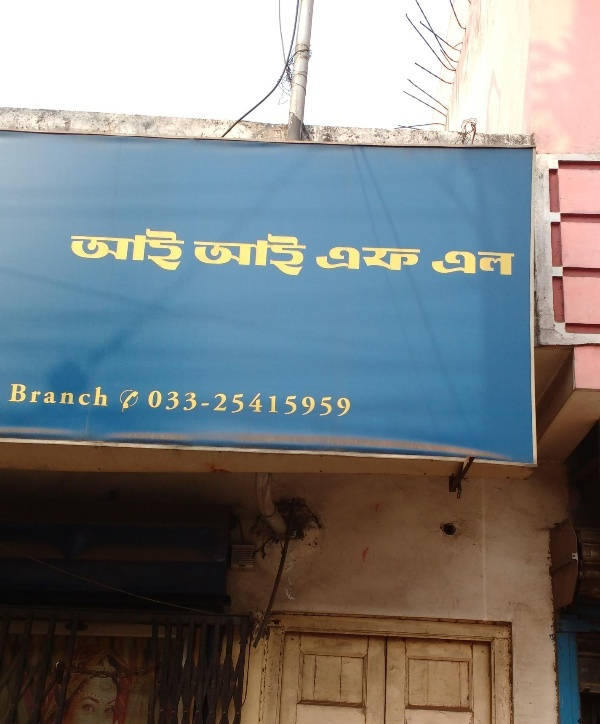text: (81, 228, 96, 272), (97, 228, 112, 272), (113, 228, 128, 272), (129, 228, 144, 272), (145, 228, 160, 272), (161, 228, 176, 272), (193, 233, 208, 276), (209, 233, 224, 276), (225, 233, 240, 276), (241, 233, 256, 276), (257, 233, 272, 276), (273, 233, 288, 276), (289, 233, 304, 276), (129, 387, 145, 416), (337, 390, 353, 417), (114, 387, 128, 416), (161, 390, 176, 417), (177, 390, 192, 417), (193, 390, 208, 417), (209, 390, 224, 417), (225, 390, 240, 417), (241, 390, 256, 417), (257, 390, 272, 417), (273, 390, 288, 417), (289, 390, 304, 417), (305, 390, 320, 417), (321, 390, 336, 417), (71, 228, 80, 272), (177, 228, 186, 272), (321, 246, 336, 272), (337, 246, 352, 272), (353, 246, 368, 272), (369, 246, 384, 272), (385, 246, 400, 272), (401, 246, 416, 272), (433, 250, 448, 276), (449, 250, 464, 276), (465, 250, 480, 276), (481, 250, 496, 276), (497, 250, 512, 276), (17, 383, 32, 407), (33, 383, 48, 407), (49, 383, 64, 407), (65, 383, 80, 407), (81, 383, 96, 407), (97, 383, 110, 407), (149, 390, 160, 417), (10, 383, 16, 407), (417, 246, 421, 272), (305, 233, 307, 276), (317, 246, 320, 272), (513, 250, 516, 276)
